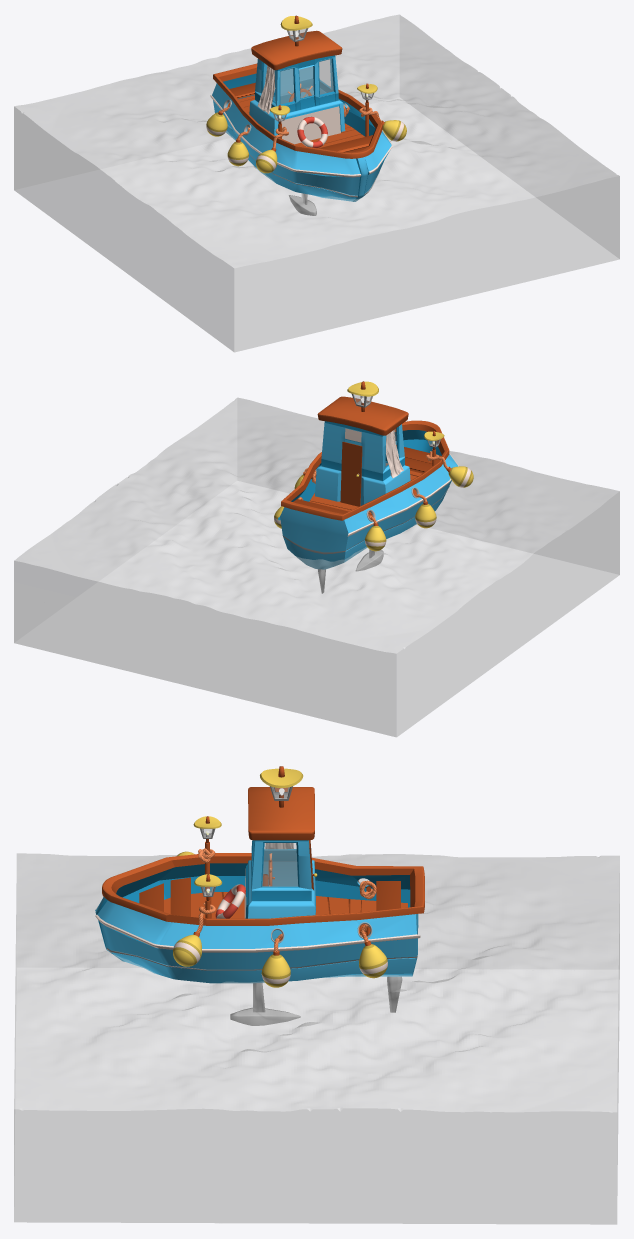
The model's file is boat.glb.
The picture shows the model from 3 angles, top to bottom: view 1: azimuth 30°, elevation 25°; view 2: azimuth 150°, elevation 25°; view 3: azimuth 270°, elevation 25°; orthographic projection. The views are drawn at different scales.
Visible parts, largest first — view 1: Cube.016, Plane.002, Cube.007, Cube.008, Sphere.004, Plane.003, Torus.001, Plane.004; view 2: Cube.016, Plane.002, Cube.007, Cube.008, Cube.009, Sphere.005, Plane.004; view 3: Cube.016, Plane.002, Cube.007, Cube.008, Plane.003, Cube.015, Plane.008, Sphere.004, Cube.013, Sphere.005, Sphere.003, Cube.011 (+2 smaller).
Part boxes in pixels (x1=…): Cube.016: x1=14, y1=14, x2=619, y2=352; Plane.002: x1=210, y1=63, x2=392, y2=201; Cube.007: x1=249, y1=55, x2=345, y2=144; Cube.008: x1=251, y1=30, x2=342, y2=70; Sphere.004: x1=256, y1=120, x2=406, y2=173; Plane.003: x1=227, y1=95, x2=364, y2=148; Torus.001: x1=297, y1=116, x2=327, y2=147; Plane.004: x1=257, y1=65, x2=275, y2=113; Cube.016: x1=14, y1=397, x2=619, y2=737; Plane.002: x1=278, y1=420, x2=458, y2=569; Cube.007: x1=315, y1=421, x2=410, y2=505; Cube.008: x1=317, y1=396, x2=408, y2=435; Cube.009: x1=340, y1=441, x2=362, y2=506; Sphere.005: x1=274, y1=506, x2=386, y2=551; Plane.004: x1=386, y1=430, x2=403, y2=478; Cube.016: x1=14, y1=853, x2=619, y2=1224; Plane.002: x1=95, y1=853, x2=424, y2=983; Cube.007: x1=244, y1=840, x2=315, y2=940; Cube.008: x1=248, y1=787, x2=314, y2=840; Plane.003: x1=164, y1=892, x2=407, y2=935; Cube.015: x1=262, y1=843, x2=297, y2=886; Plane.008: x1=230, y1=1007, x2=300, y2=1025; Sphere.004: x1=173, y1=851, x2=201, y2=966; Cube.013: x1=170, y1=877, x2=190, y2=916; Sphere.005: x1=359, y1=944, x2=387, y2=978; Sphere.003: x1=261, y1=954, x2=290, y2=987; Cube.011: x1=376, y1=881, x2=400, y2=910.
Bounding box in the file's own units: 34.03 × 19.06 × 34.04.
